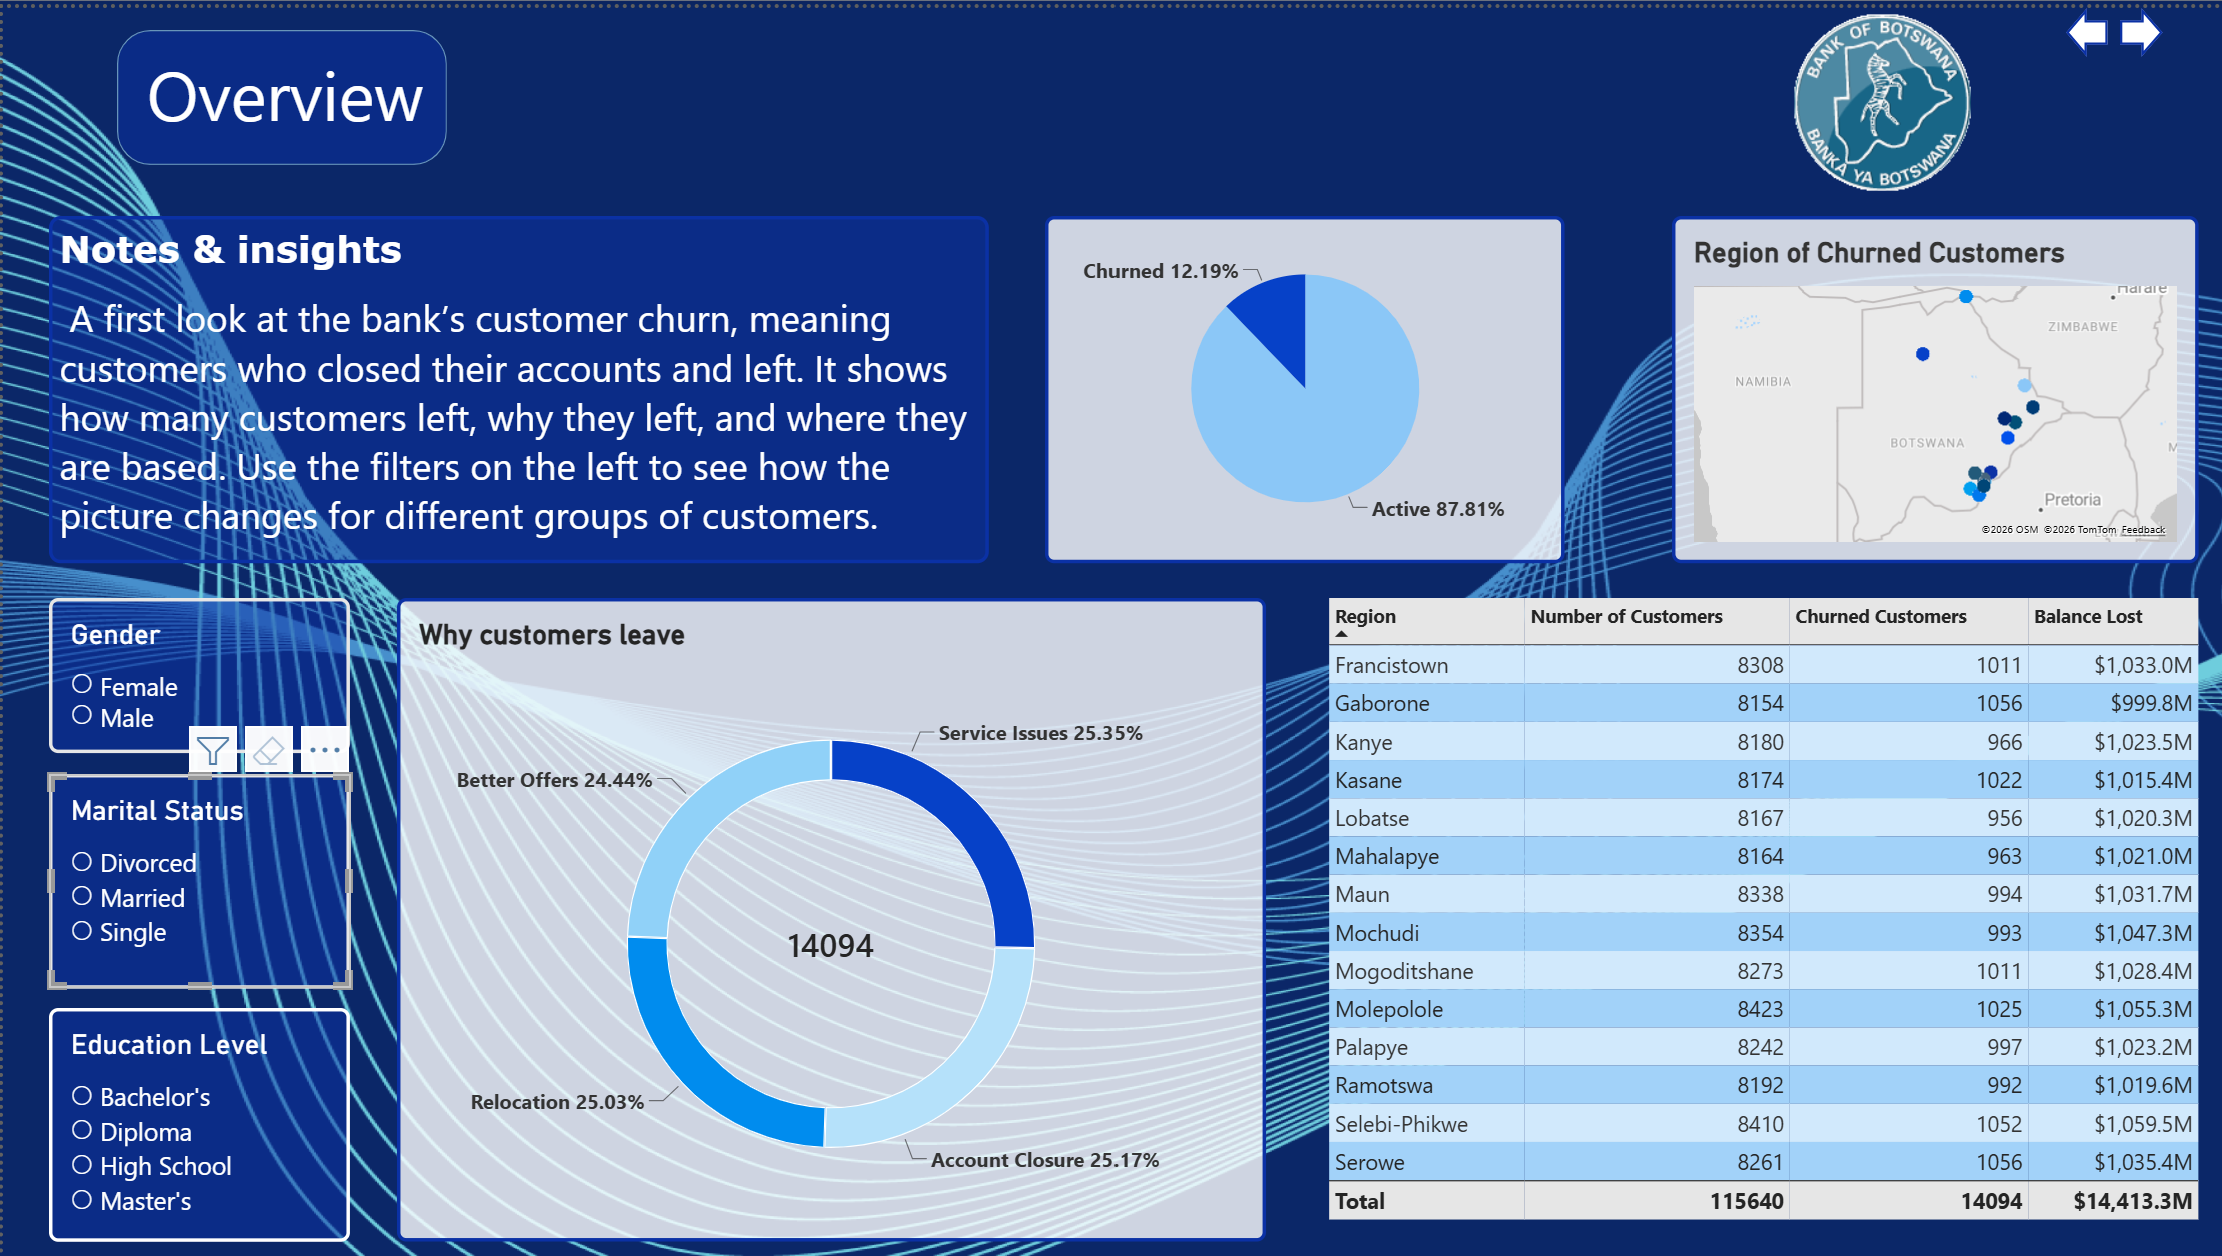

What the dashboard file says about the page in this screenshot:
{"tool":"powerbi","page":{"name":"Overview","canvas":[1920,1080],"ordinal":1},"visuals":[{"type":"shape","box":[99.1,19.1,284.9,116.7],"z":0},{"type":"donutChart","title":"Why customers leave","fields":{"Category":["Bank Info.Churn Reason"],"Y":["All Measures.Churned Customers"]},"box":[340,510,750,556],"z":1000},{"type":"tableEx","fields":{"Values":["Customer Info.Region","Bank Info.RowNumber","All Measures.Churned Customers","All Measures.Balance Lost"]},"box":[1144,510,754,556],"z":2000},{"type":"azureMap","title":"Region of Churned Customers","fields":{"Category":["Customer Info.Region"],"Series":["Customer Info.Region"]},"box":[1442,180,455.1,300.2],"z":3000},{"type":"textbox","box":[124,34.4,250.5,86.1],"z":4000},{"type":"pieChart","fields":{"Category":["Bank Info.Churn Flag"],"Y":["CountNonNull(Bank Info.Churn Flag)"]},"box":[900,180,448,300],"z":5000},{"type":"listSlicer","fields":{"Values":["Customer Info.Gender"]},"box":[40.2,510.6,260.1,133.9],"z":6000},{"type":"listSlicer","fields":{"Values":["Customer Info.Marital Status"]},"box":[40.2,661.7,260.1,185.5],"z":7000},{"type":"listSlicer","fields":{"Values":["Customer Info.Education Level"]},"box":[40,864,260,202],"z":8000},{"type":"textbox","box":[40,180,812,300],"z":9000},{"type":"image","box":[1521.7,0,202.7,164.5],"z":10000},{"type":"shape","box":[1828.8,0,37,42.3],"z":11000},{"type":"shape","box":[1782,0,36,42.3],"z":12000}]}

Visuals, with their boxes in screenshot pixels (x1, y1, x2, y2), scaled from the page's 1920x1080 canvas onto the 2222x1256 screenshot:
shape: 115, 22, 444, 158
"Why customers leave" donutChart: 393, 593, 1261, 1240
tableEx - Customer Info.Region x Bank Info.RowNumber: 1324, 593, 2197, 1240
"Region of Churned Customers" azureMap: 1669, 209, 2195, 558
textbox: 144, 40, 433, 140
pieChart - Bank Info.Churn Flag x CountNonNull(Bank Info.Churn Flag): 1042, 209, 1560, 558
listSlicer - Customer Info.Gender: 47, 594, 348, 750
listSlicer - Customer Info.Marital Status: 47, 770, 348, 985
listSlicer - Customer Info.Education Level: 46, 1005, 347, 1240
textbox: 46, 209, 986, 558
image: 1761, 0, 1996, 191
shape: 2116, 0, 2159, 49
shape: 2062, 0, 2104, 49
